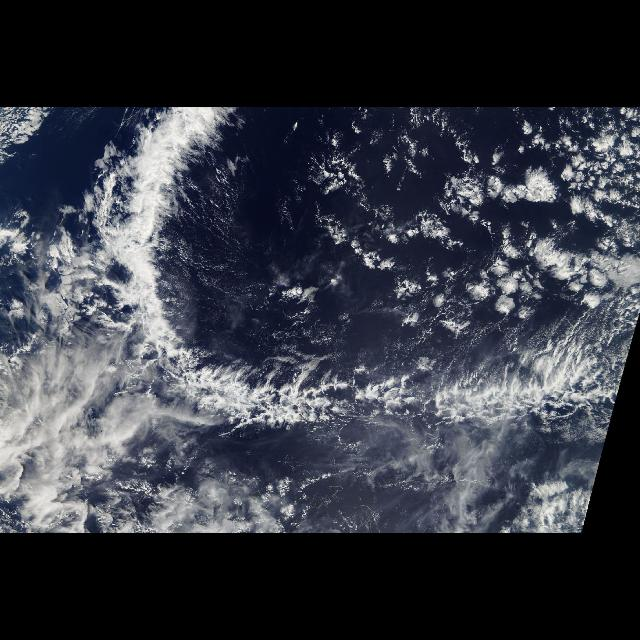Fish: (78, 108, 628, 456)
Flower: (310, 117, 640, 329)
